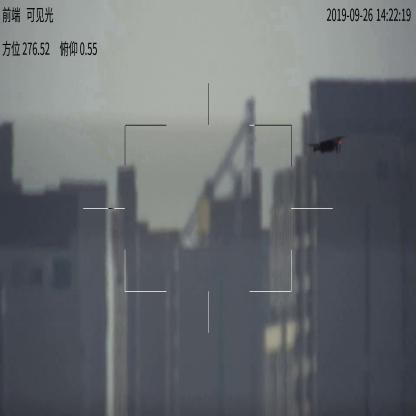uav: (306, 131, 346, 158)
